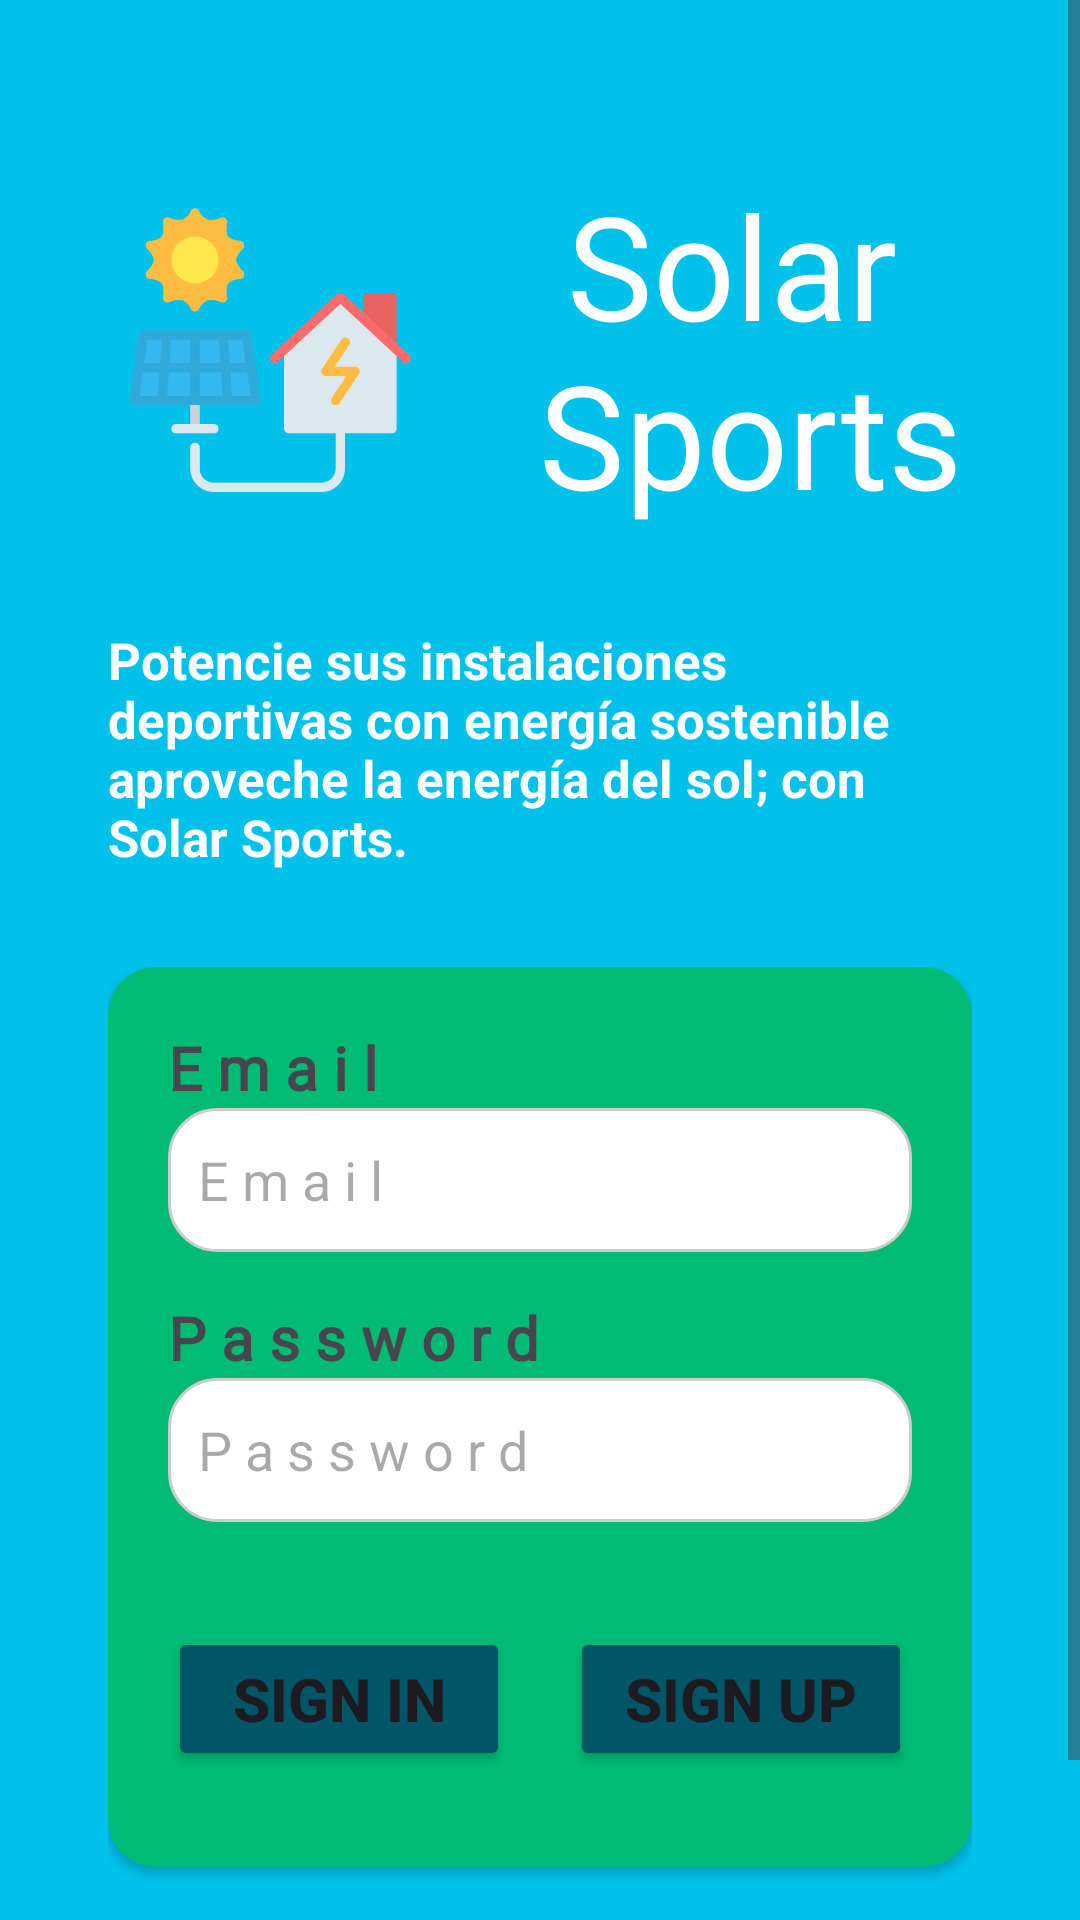

Locate icon controls on the screen. Image size 1080px x 1920px, boxes as (x1, y1, x2, y2).
Panel: (129, 208, 411, 492)
